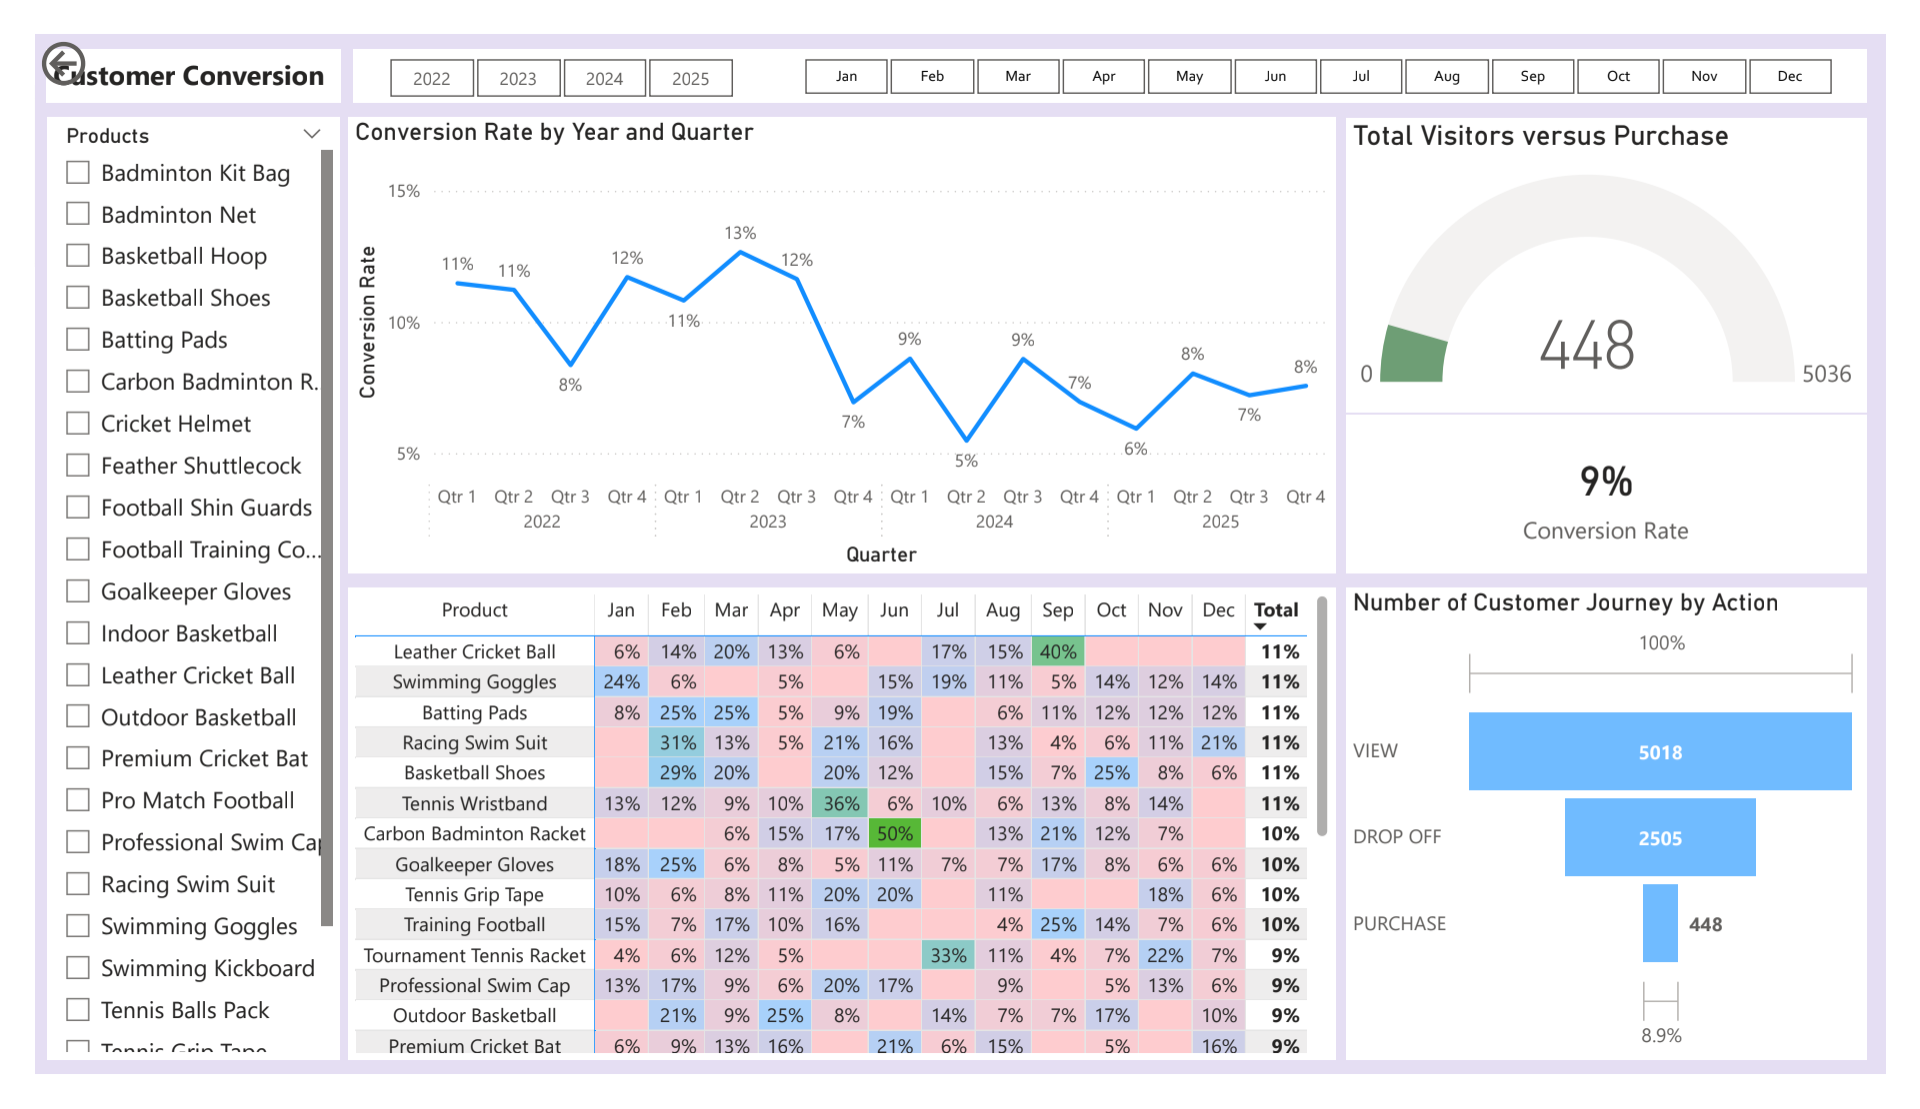

The page's visual inventory and layout, read from the dashboard file:
{"tool":"powerbi","page":{"name":"Cust_Conversion","canvas":[1280,720],"ordinal":2},"visuals":[{"type":"slicer","fields":{"Values":["Product_master_data.P_Name"]},"box":[8.6,57.1,202.9,652.9],"z":0},{"type":"textbox","box":[8.3,10,203.3,36.7],"z":1000},{"type":"slicer","fields":{"Values":["Calendar.Year"]},"box":[220,10,286.7,36.7],"z":2000},{"type":"slicer","fields":{"Values":["Calendar.MonthNameShort"]},"box":[507.1,10,760,37.1],"z":3000},{"type":"card","fields":{"Values":["Calculations.Conversion Rate"]},"box":[906.7,263.3,360,110],"z":4000},{"type":"lineChart","fields":{"Category":["Calendar.Year","Calendar.Date.Variation.Date Hierarchy.Quarter"],"Y":["Calculations.Conversion Rate"]},"box":[216.7,56.7,683.3,316.7],"z":5000},{"type":"pivotTable","fields":{"Columns":["Calendar.MonthNameShort"],"Rows":["Product_master_data.P_Name"],"Values":["Calculations.Conversion Rate"]},"box":[216.7,383.3,683.3,326.7],"z":6000},{"type":"actionButton","box":[0,0,100,40],"z":7000},{"type":"gauge","title":"Total Visitors versus Purchase","fields":{"MaxValue":["Calculations.TotalVisitors"],"Y":["Calculations.TotalPurchases"]},"box":[906.7,58.3,360,203.3],"z":8000},{"type":"funnel","fields":{"Category":["Customer_journey.Action"],"Y":["Calculations.Number of Customer Journey"]},"box":[906.7,383.3,360,326.7],"z":9000}]}

Visuals, with their boxes in screenshot pixels (x1, y1, x2, y2), scaled from the page's 1280x720 canvas onto the 1920x1109 screenshot:
slicer - Product_master_data.P_Name: bbox(13, 88, 317, 1094)
textbox: bbox(12, 15, 317, 72)
slicer - Calendar.Year: bbox(330, 15, 760, 72)
slicer - Calendar.MonthNameShort: bbox(761, 15, 1901, 73)
card - Calculations.Conversion Rate: bbox(1360, 406, 1900, 575)
lineChart - Calendar.Year x Calendar.Date.Variation.Date Hierarchy.Quarter: bbox(325, 87, 1350, 575)
pivotTable - Calendar.MonthNameShort x Product_master_data.P_Name: bbox(325, 590, 1350, 1094)
actionButton: bbox(0, 0, 150, 62)
"Total Visitors versus Purchase" gauge: bbox(1360, 90, 1900, 403)
funnel - Customer_journey.Action x Calculations.Number of Customer Journey: bbox(1360, 590, 1900, 1094)
